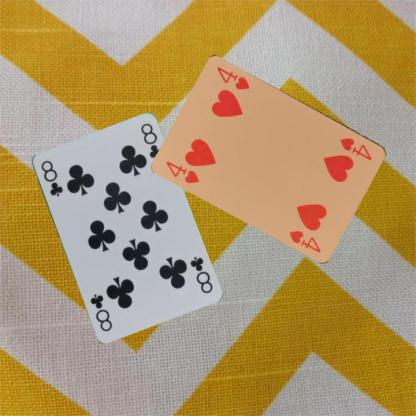4h: (337, 134, 374, 162), (164, 158, 201, 185)
8c: (187, 254, 214, 294), (38, 157, 64, 198)
